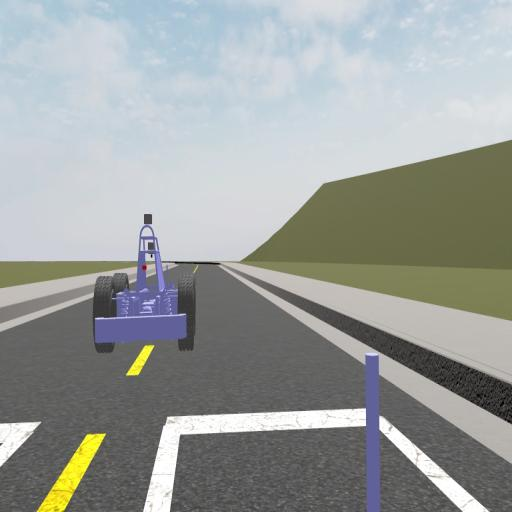ERP-42: (94, 212, 196, 354)
